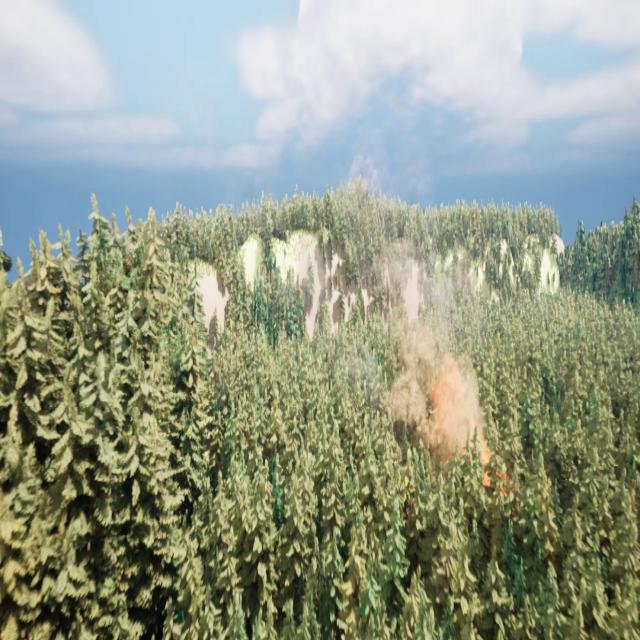smoke: (373, 224, 502, 481)
